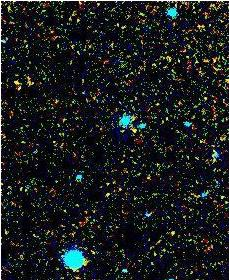star: (118, 115, 148, 145)
